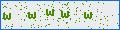w: (83, 10, 93, 20), (2, 12, 13, 21), (26, 11, 37, 20), (60, 10, 70, 19), (46, 9, 55, 17)
